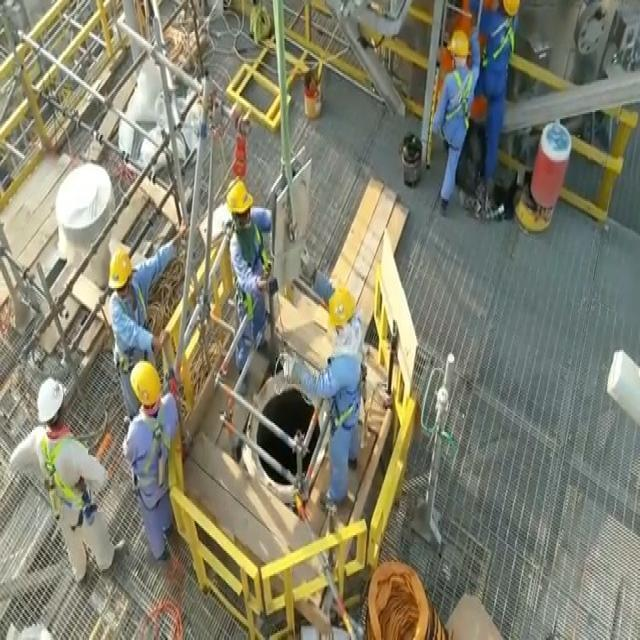Person: (17, 393, 104, 587), (456, 2, 520, 222), (124, 364, 179, 579), (220, 187, 276, 366), (436, 40, 482, 213), (106, 237, 156, 386)
